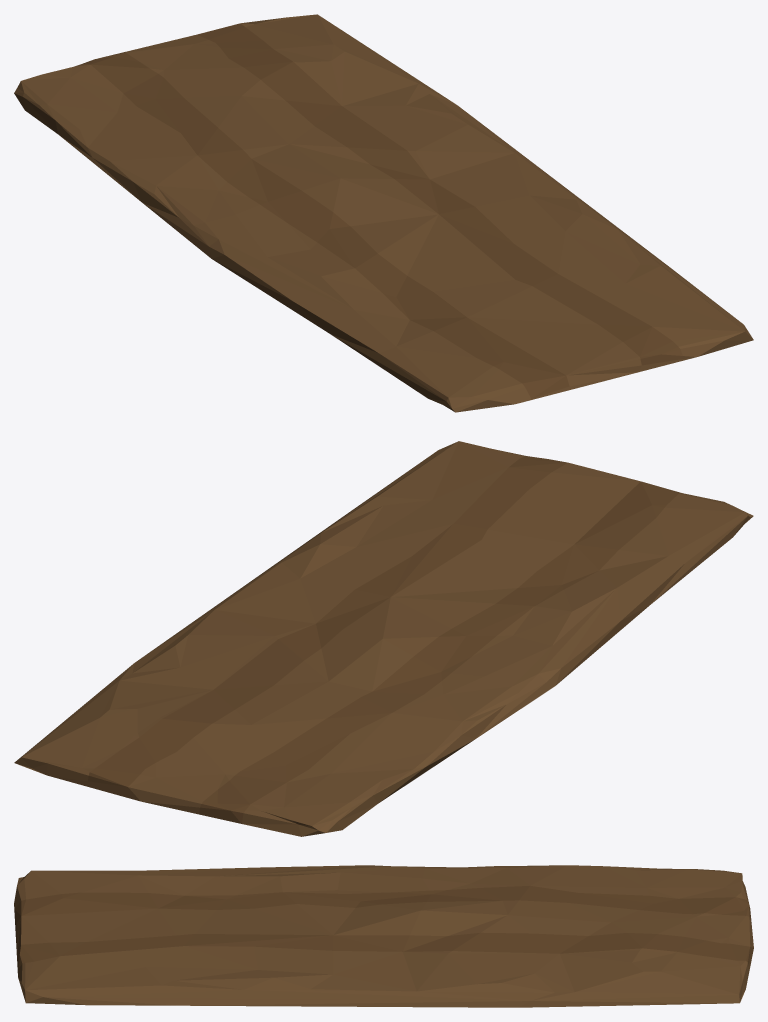
Rendered from Mesh_Landscape_MudRoad_01.FBX.
The picture shows the model from 3 angles, top to bottom: view 1: azimuth 30°, elevation 25°; view 2: azimuth 150°, elevation 25°; view 3: azimuth 270°, elevation 25°; orthographic projection. The views are drawn at different scales.
Parts seen in each view (by area): view 1: Mesh_Landscape_MudRoad_01; view 2: Mesh_Landscape_MudRoad_01; view 3: Mesh_Landscape_MudRoad_01.
Part boxes in pixels (<box>): Mesh_Landscape_MudRoad_01: <box>14,14,753,412</box>; Mesh_Landscape_MudRoad_01: <box>14,441,753,836</box>; Mesh_Landscape_MudRoad_01: <box>14,865,753,1007</box>.
Bounding box in the file's own units: 370 × 850 × 30.11.
